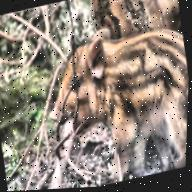boar: (26, 11, 191, 182)
